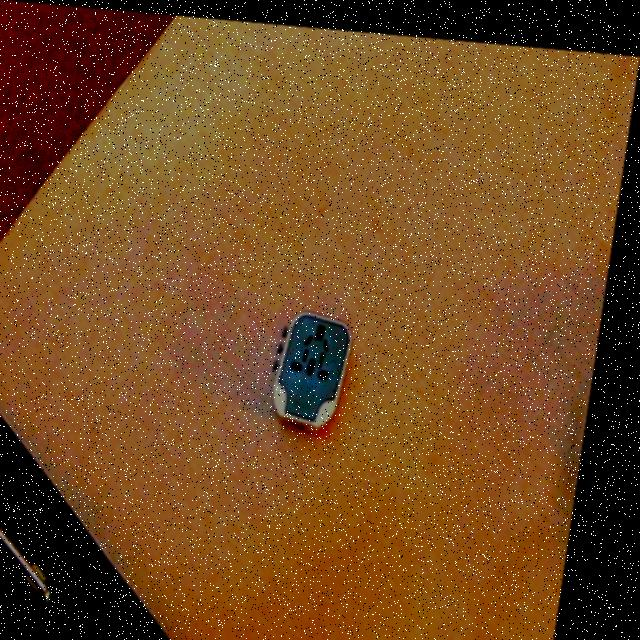adapter: (276, 302, 364, 425)
